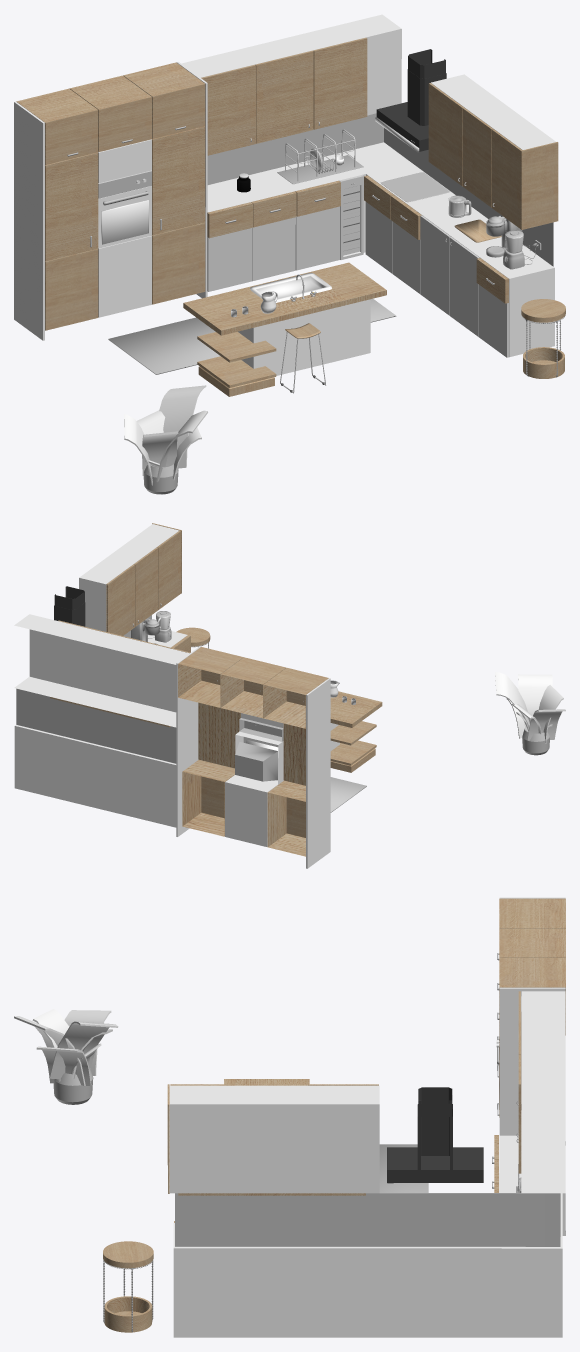
File: KitchenClean.fbx
3 renders of one model, top to bottom at view 1: azimuth 30°, elevation 25°; view 2: azimuth 150°, elevation 25°; view 3: azimuth 270°, elevation 25°, orthographic. The views are drawn at different scales.
Visible parts, largest first — view 1: KitchenFasad.004, BaseKitchen, KitchenCabinets2.004, KitchenIsland.002, KitchenCabinets1.004, KitchenTiles.002, Plant_1, Carpet.002, Oven_1, Hood.004, BowlWoodPlant_Cylinder_068_Wood_002, PlatesKeeper.002 (+4 smaller); view 2: KitchenFasad.004, KitchenCabinets2.004, BaseKitchen, KitchenCabinets1.004, KitchenTiles.002, Plant_1, KitchenIsland.002, OVEN, Oven_1, Hood.004, Carpet.002, CoffeeMachine; view 3: BaseKitchen, KitchenCabinets1.004, KitchenTiles.002, KitchenCabinets2.004, KitchenFasad.004, Hood.004, Plant_1, BowlWoodPlant_Cylinder_068_Wood_002, Carpet.002.
Part boxes in pixels (left/top/right/bottom): KitchenFasad.004: left=14, top=62, right=207, bottom=340; BaseKitchen: left=207, top=142, right=554, bottom=357; KitchenCabinets2.004: left=181, top=14, right=401, bottom=155; KitchenIsland.002: left=183, top=262, right=386, bottom=396; KitchenCabinets1.004: left=428, top=74, right=558, bottom=229; KitchenTiles.002: left=207, top=113, right=553, bottom=266; Plant_1: left=124, top=385, right=207, bottom=494; Carpet.002: left=108, top=298, right=396, bottom=374; Oven_1: left=98, top=170, right=151, bottom=248; Hood.004: left=375, top=49, right=446, bottom=152; BowlWoodPlant_Cylinder_068_Wood_002: left=521, top=299, right=565, bottom=378; PlatesKeeper.002: left=277, top=129, right=363, bottom=184; KitchenFasad.004: left=176, top=646, right=330, bottom=868; KitchenCabinets2.004: left=14, top=614, right=190, bottom=727; BaseKitchen: left=14, top=631, right=190, bottom=827; KitchenCabinets1.004: left=79, top=523, right=181, bottom=635; KitchenTiles.002: left=16, top=615, right=176, bottom=763; Plant_1: left=495, top=672, right=565, bottom=755; KitchenIsland.002: left=330, top=691, right=382, bottom=772; OVEN: left=235, top=742, right=277, bottom=781; Oven_1: left=235, top=718, right=283, bottom=784; Hood.004: left=54, top=586, right=85, bottom=626; Carpet.002: left=330, top=777, right=366, bottom=812; CoffeeMachine: left=131, top=618, right=159, bottom=644; BaseKitchen: left=173, top=1135, right=562, bottom=1337; KitchenCabinets1.004: left=167, top=1084, right=379, bottom=1195; KitchenTiles.002: left=175, top=1193, right=560, bottom=1246; KitchenCabinets2.004: left=516, top=991, right=565, bottom=1193; KitchenFasad.004: left=497, top=897, right=565, bottom=1235; Hood.004: left=387, top=1087, right=483, bottom=1183; Plant_1: left=14, top=1009, right=118, bottom=1104; BowlWoodPlant_Cylinder_068_Wood_002: left=103, top=1241, right=153, bottom=1332; Carpet.002: left=379, top=1144, right=428, bottom=1192.
Size of the model in its own units: 771 by 337 by 681.
